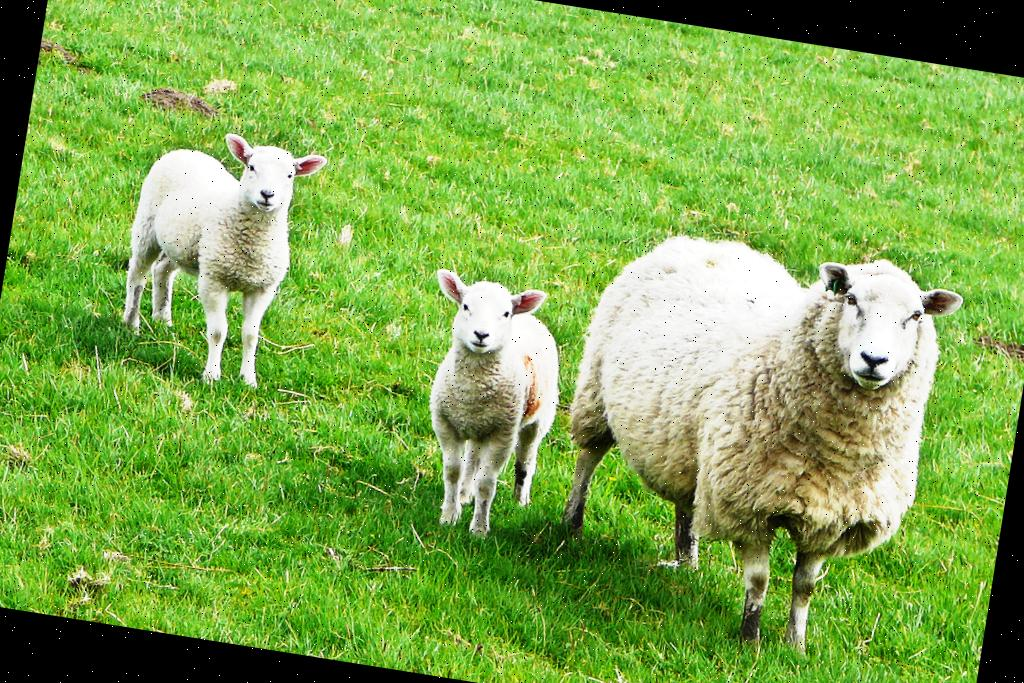Sheep: (534, 220, 973, 670), (110, 116, 328, 397), (396, 269, 574, 544)
